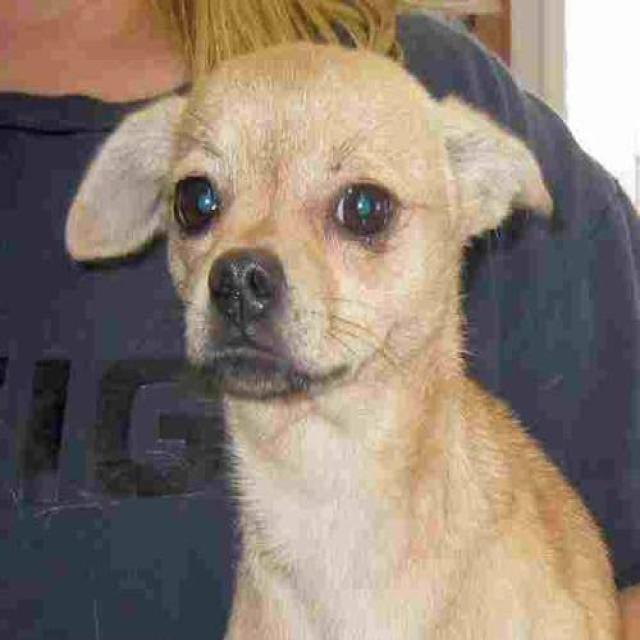dog: (61, 0, 628, 639)
